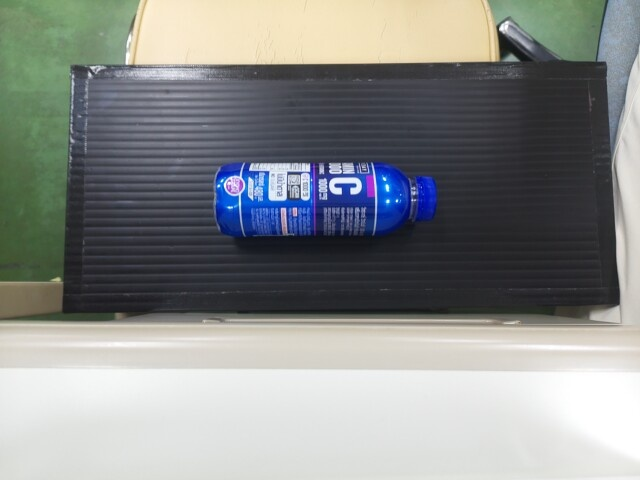plastic_bottle: (212, 158, 436, 239)
